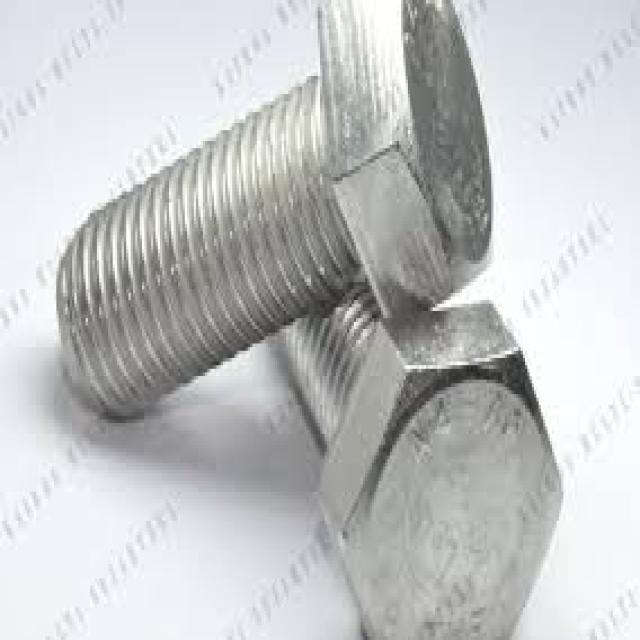Turning: (26, 1, 524, 355), (283, 298, 576, 638)
